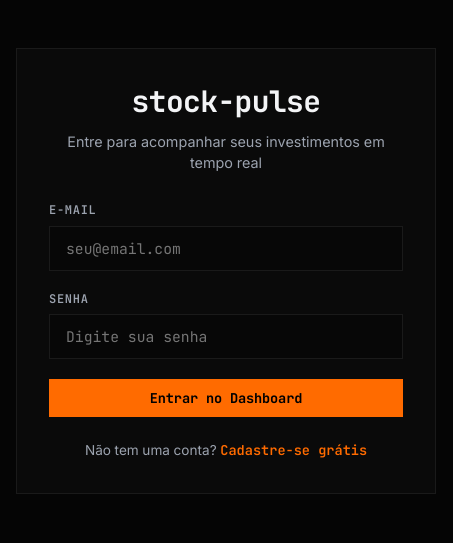
Test: LoginPage › handles login error with fallback message
Type "test@test.com" into the field labelled "E-mail" at [226, 248], box left=49, top=226, right=403, bottom=271
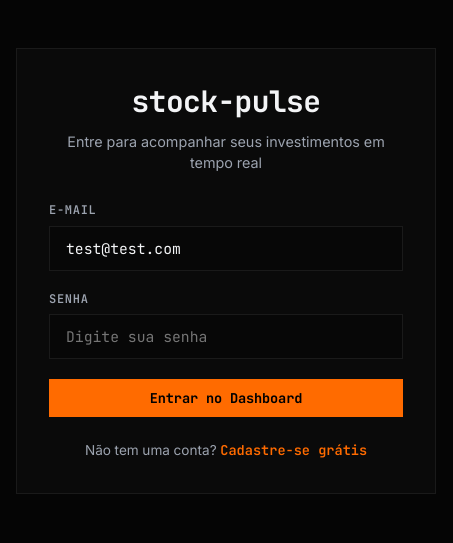
Type "wrong" into the password field labelled "Senha" at [226, 337], box left=49, top=314, right=403, bottom=360
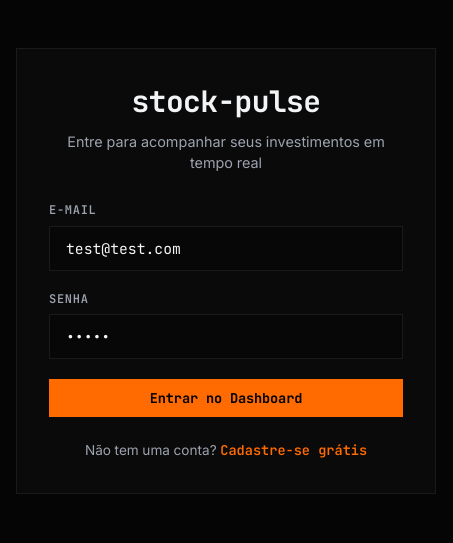
Click the button "Entrar no Dashboard" at [226, 398], box left=49, top=380, right=403, bottom=417
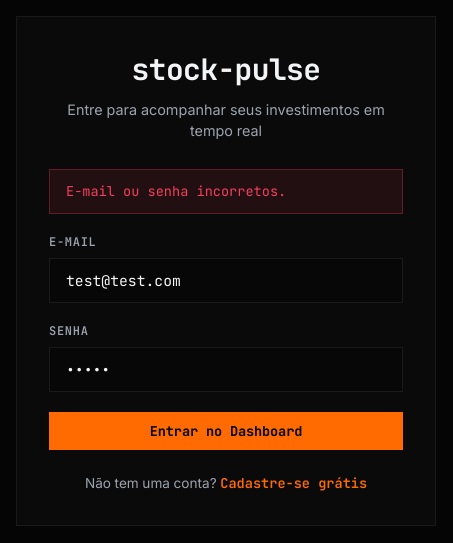
Expected: the text "E-mail ou senha incorretos." is shown, left=49, top=169, right=403, bottom=214
